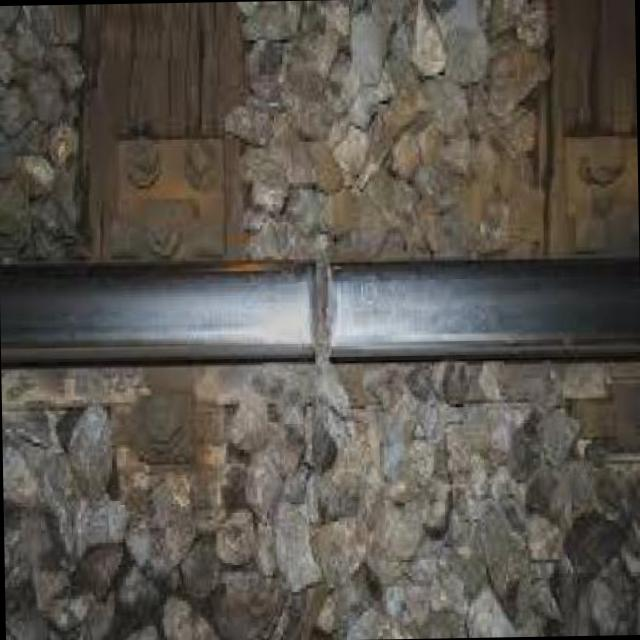defective: (52, 124, 638, 580)
